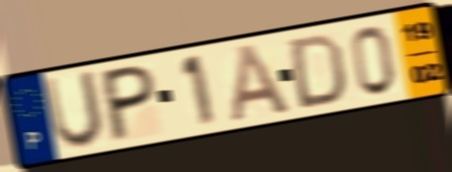0: (348, 22, 400, 99)
1: (180, 51, 218, 129)
A: (228, 40, 295, 126)
D: (288, 31, 347, 112)
P: (101, 61, 158, 146)
U: (40, 67, 107, 152)
